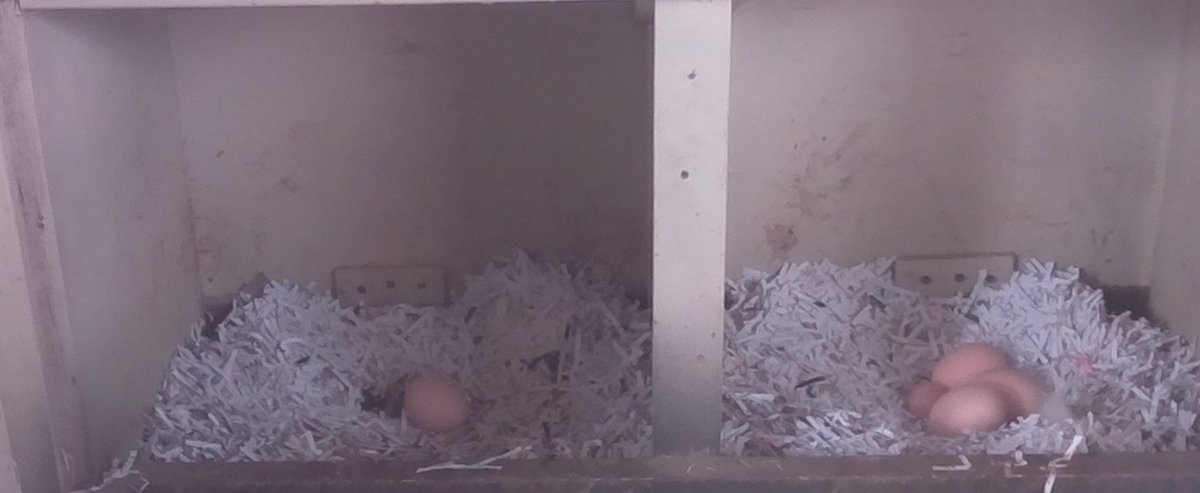egg: (391, 359, 485, 438), (924, 379, 1016, 440), (964, 363, 1051, 422), (931, 339, 1012, 385), (903, 376, 954, 419)
